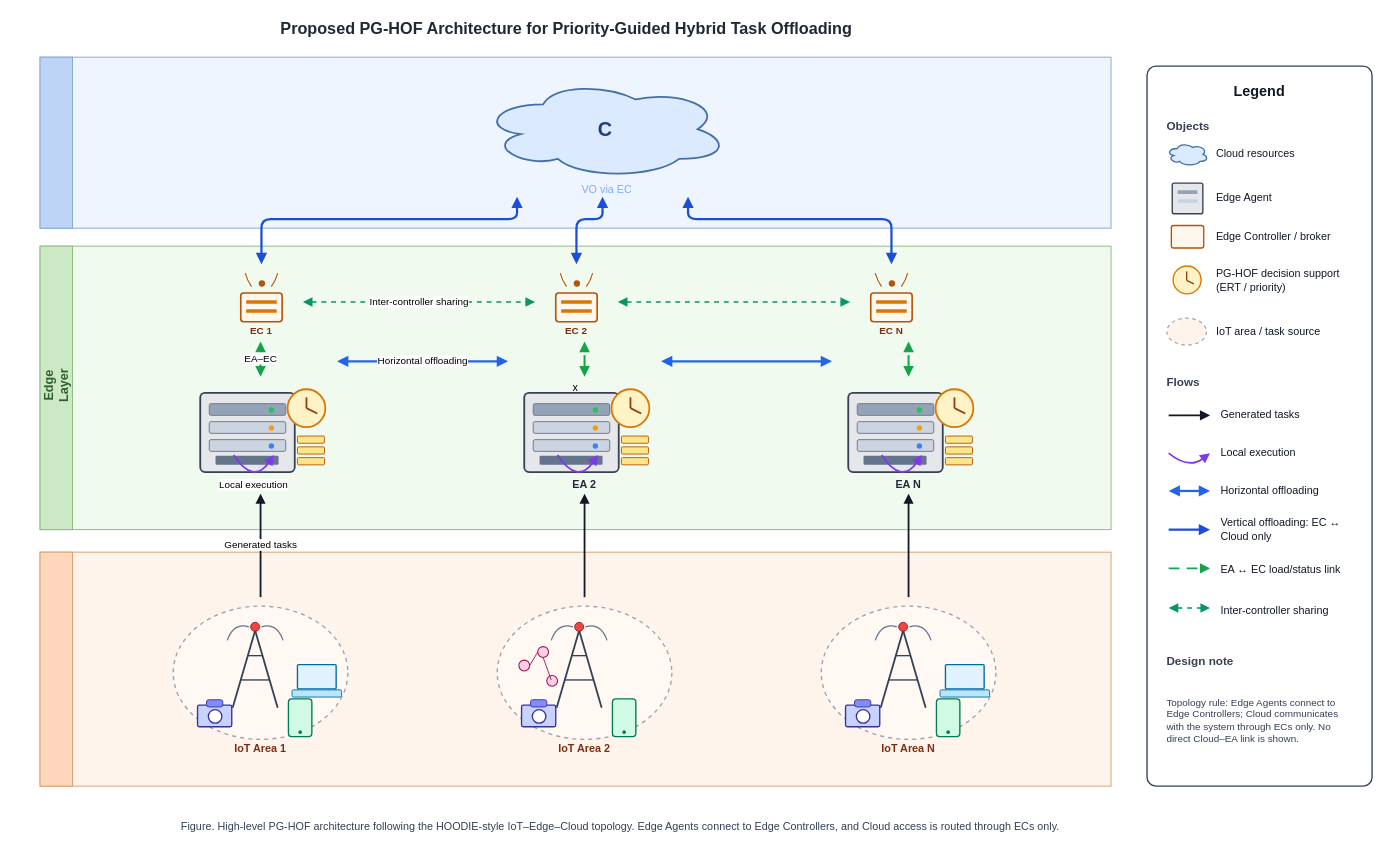
Some shapes in this 1388 by 860 pixel diagram are drawn without their labels. Each missing label, with the box of its shape:
Cloud Layer: (39, 56, 72, 228)
IoT Layer: (39, 551, 72, 786)
